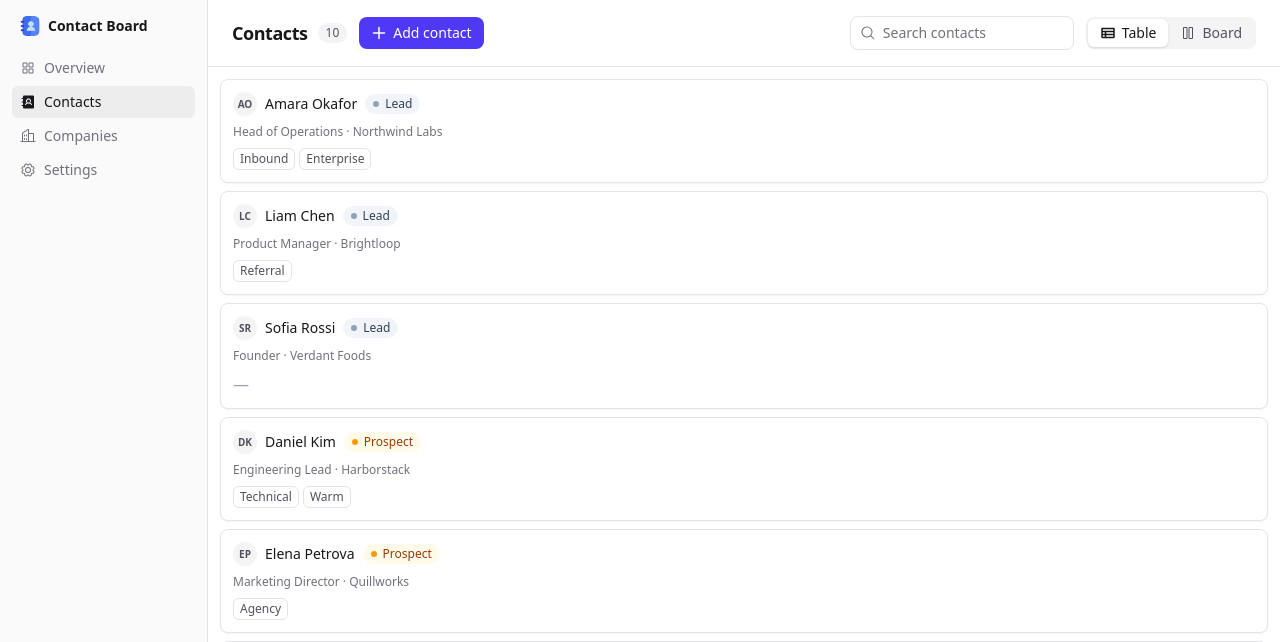
Test: phone layout (below 768px) › search filters the list
In the search field labelled "Search contacts": (962, 33) [850,16,1074,50], type "copperline"
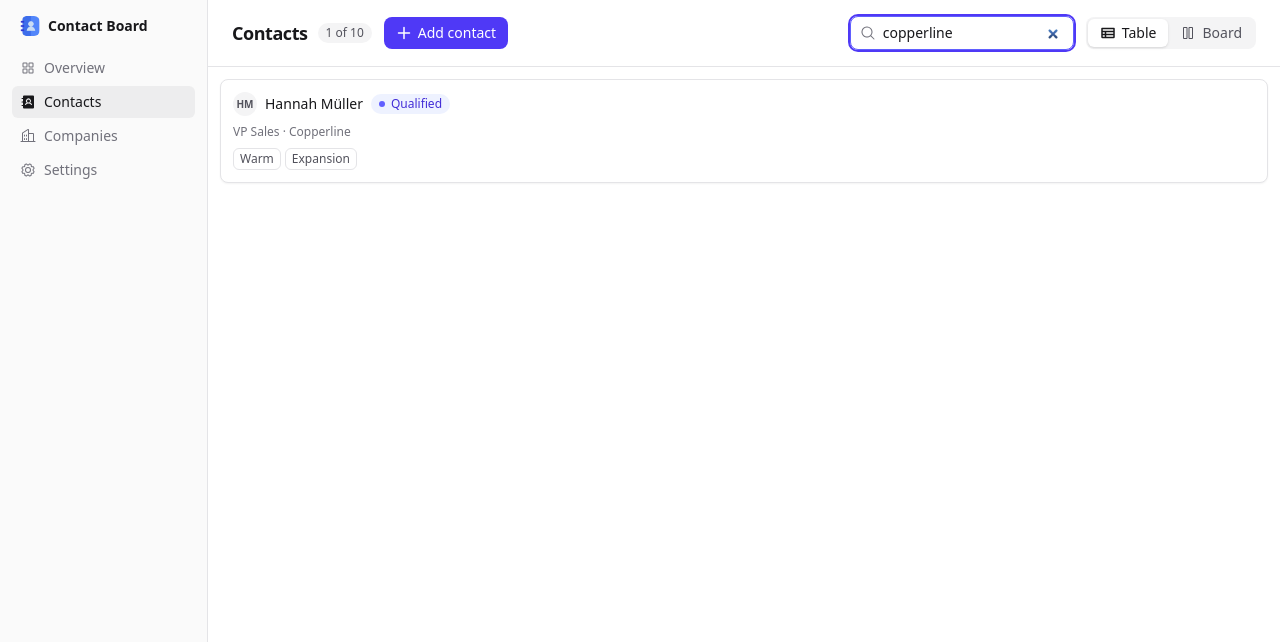
Replace the text in the search field named "Search contacts" with "zzzz": (962, 33) [850,16,1074,50]
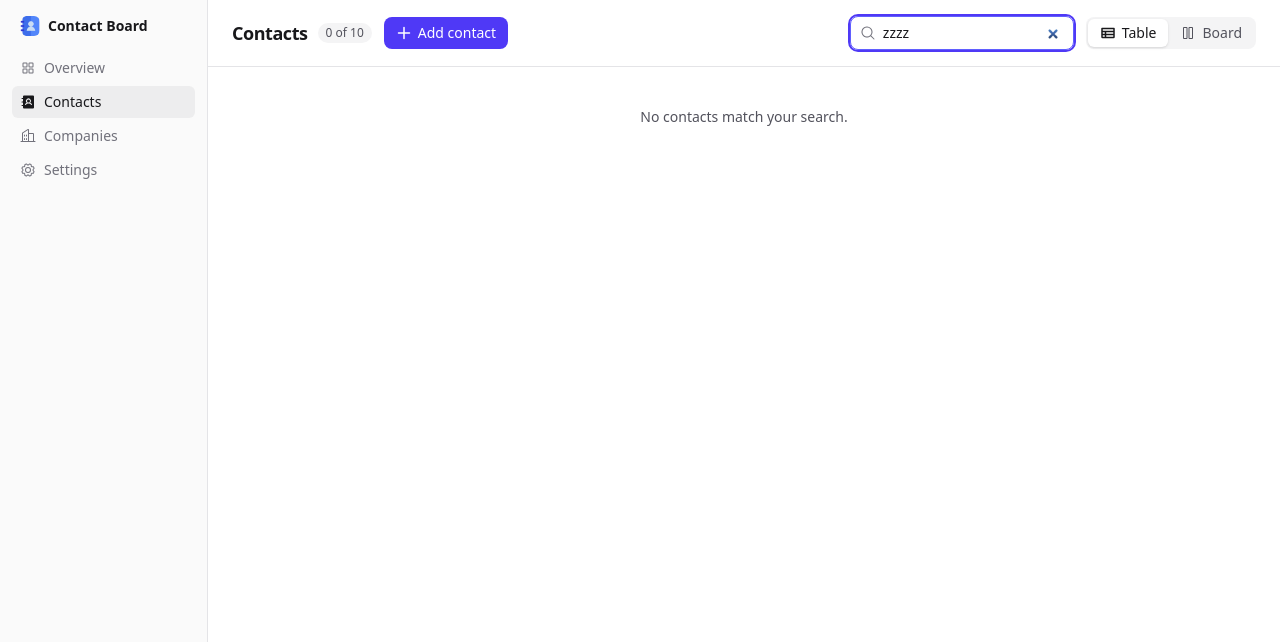
expect the text "No contacts match your search." is shown: met, box [640,107,848,126]
